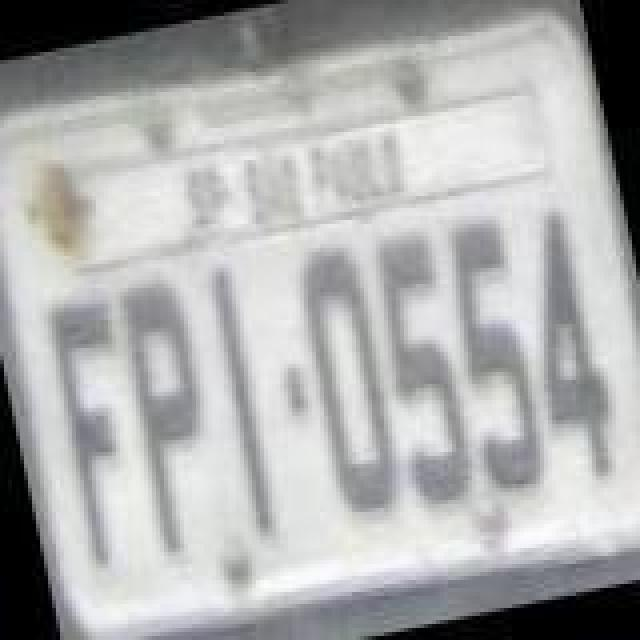1: (196, 262, 284, 538)
4: (502, 198, 626, 490)
5: (354, 222, 486, 514), (430, 208, 562, 496)
F: (38, 288, 162, 576)
O: (282, 232, 414, 528)
P: (102, 266, 234, 558)
